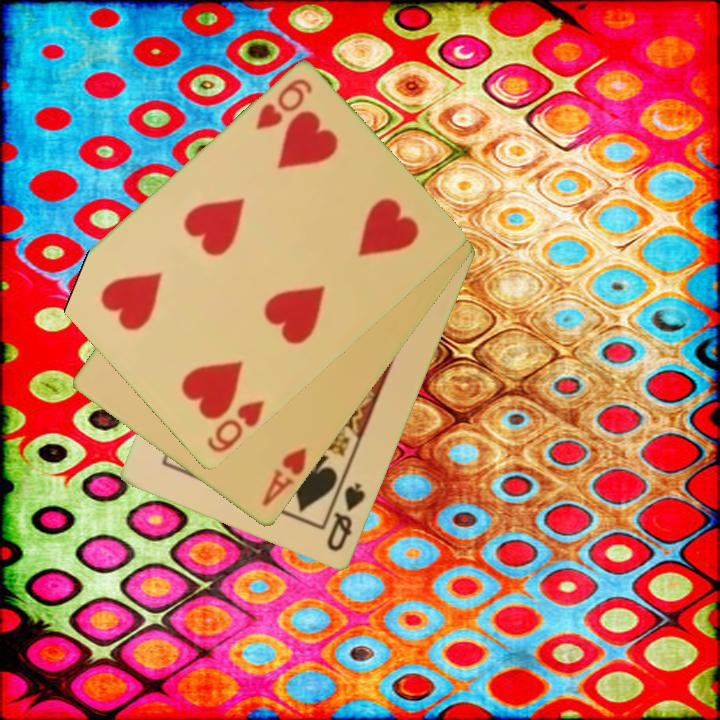6h: (203, 397, 268, 456), (252, 75, 316, 134)
Ah: (259, 444, 310, 510)
Qs: (323, 479, 369, 555)
